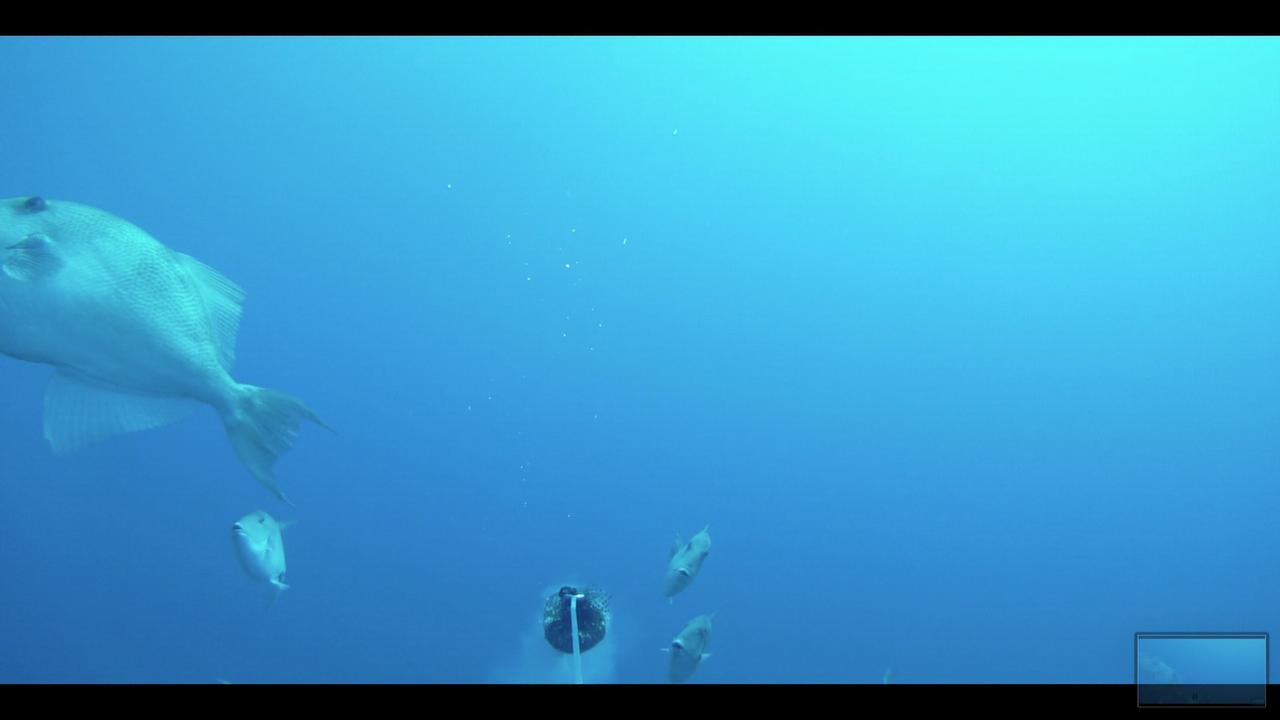balistes: (4, 186, 338, 507), (221, 505, 309, 593), (647, 516, 720, 606), (653, 611, 730, 679)
